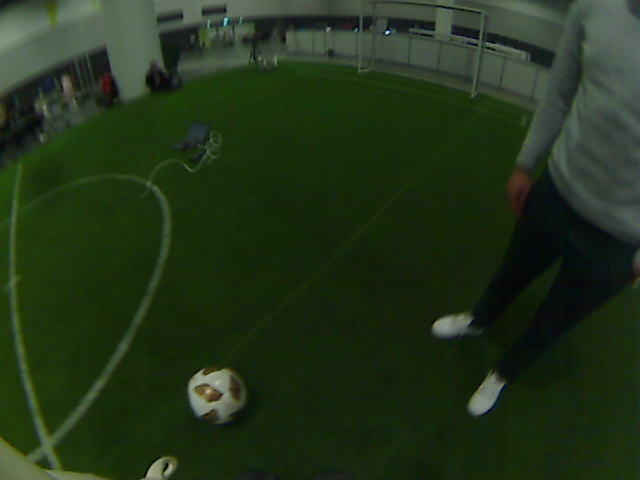ball: (193, 374, 233, 414)
goalpost: (454, 38, 494, 98), (351, 27, 368, 74)
